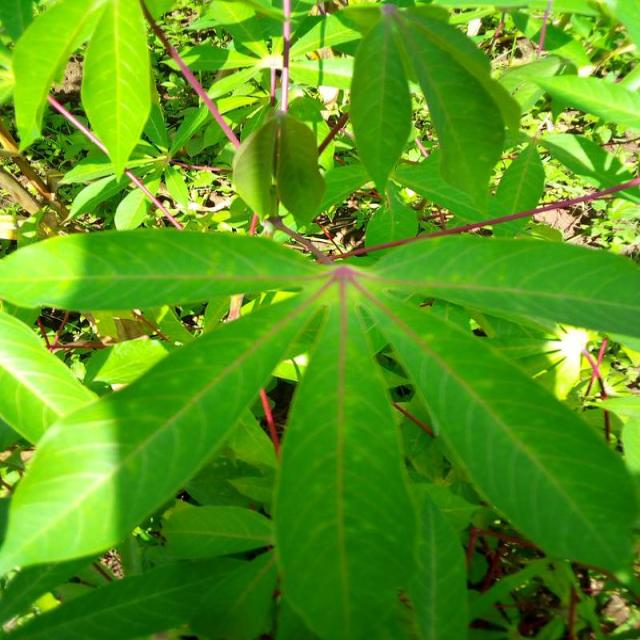cassava leaf: (0, 2, 638, 636), (272, 275, 418, 638)
